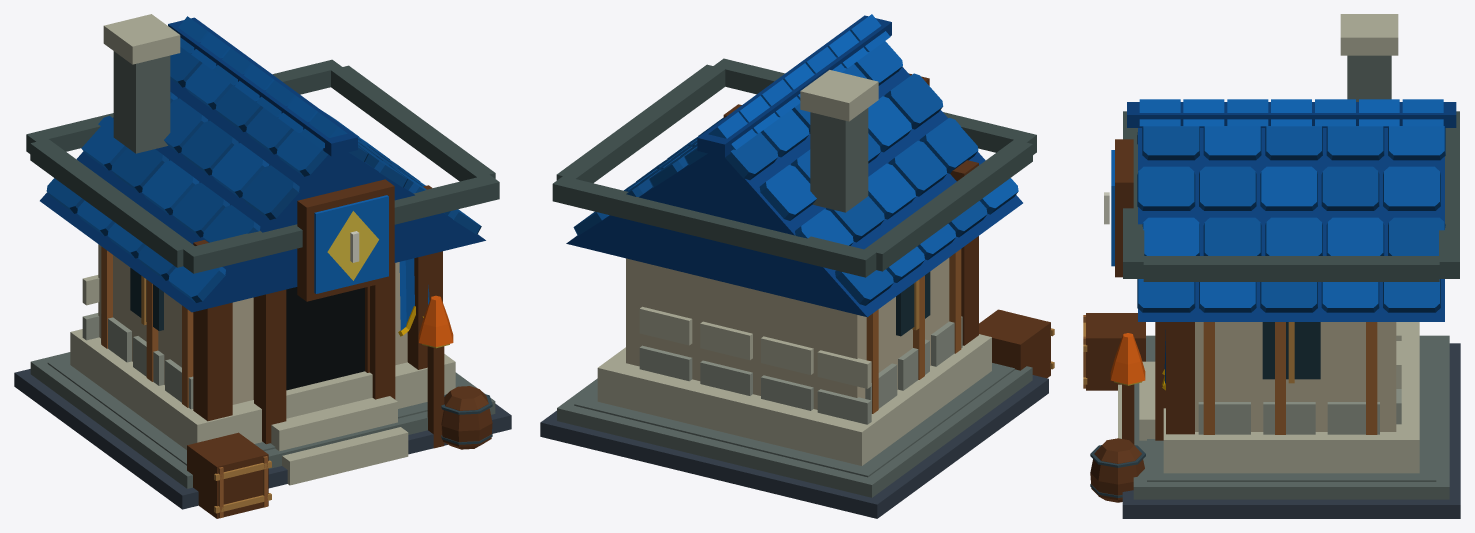
Rendered from barracks_l2.fbx.
3 views of the same model, side by side, from view 1: azimuth 30°, elevation 25°; view 2: azimuth 150°, elevation 25°; view 3: azimuth 270°, elevation 25° (orthographic). The views are drawn at different scales.
Parts seen in each view (by area): view 1: barracks_l2; view 2: barracks_l2; view 3: barracks_l2.
Boxes of the visible parts, x1,y1,x2,y2 form: barracks_l2: (14,14,511,518); barracks_l2: (540,14,1054,518); barracks_l2: (1083,14,1460,518).
Bounding box in the file's own units: 1.72 × 1.84 × 1.7.
